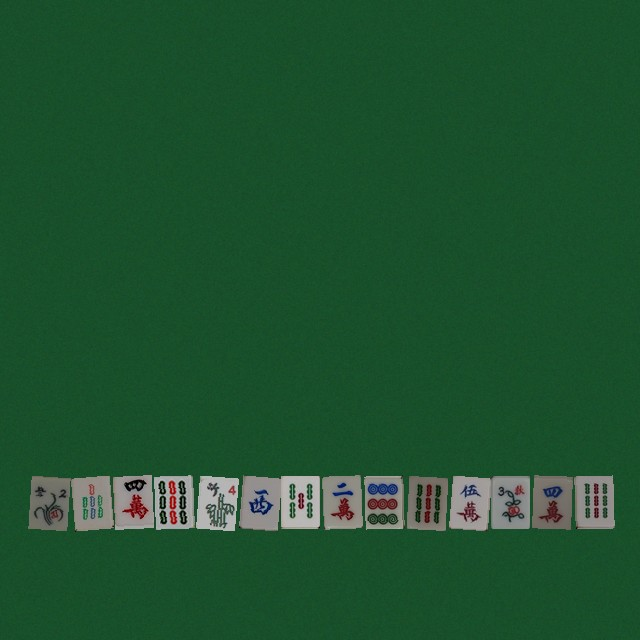tile: (28, 475, 67, 528), (70, 475, 109, 528), (112, 475, 151, 528), (154, 475, 193, 528), (196, 475, 235, 528), (238, 475, 277, 528), (280, 475, 319, 528), (322, 475, 361, 528), (364, 475, 403, 528), (406, 475, 445, 528), (448, 475, 487, 528), (490, 475, 529, 528), (532, 475, 571, 528), (574, 475, 613, 528)
